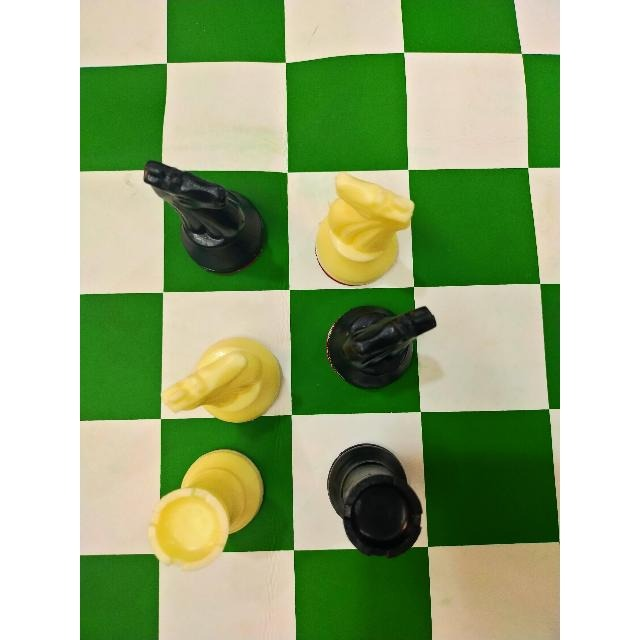black-knight: (131, 157, 277, 279), (320, 308, 441, 399)
black-rook: (318, 442, 433, 557)
white-knight: (155, 339, 288, 422), (318, 174, 410, 284)
white-rook: (153, 442, 283, 570)
